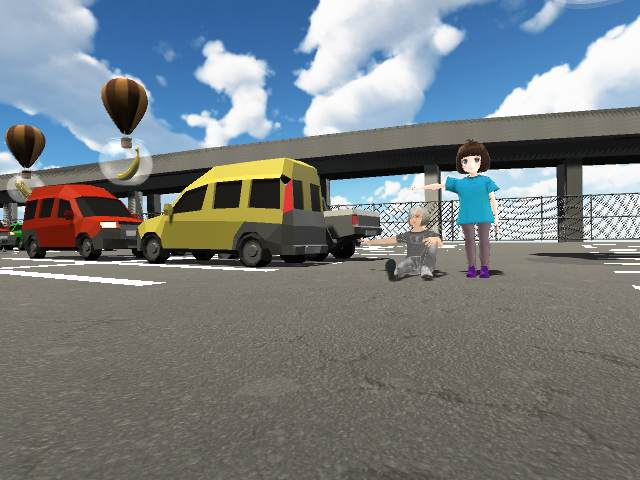doubleP_left: (356, 138, 499, 283)
